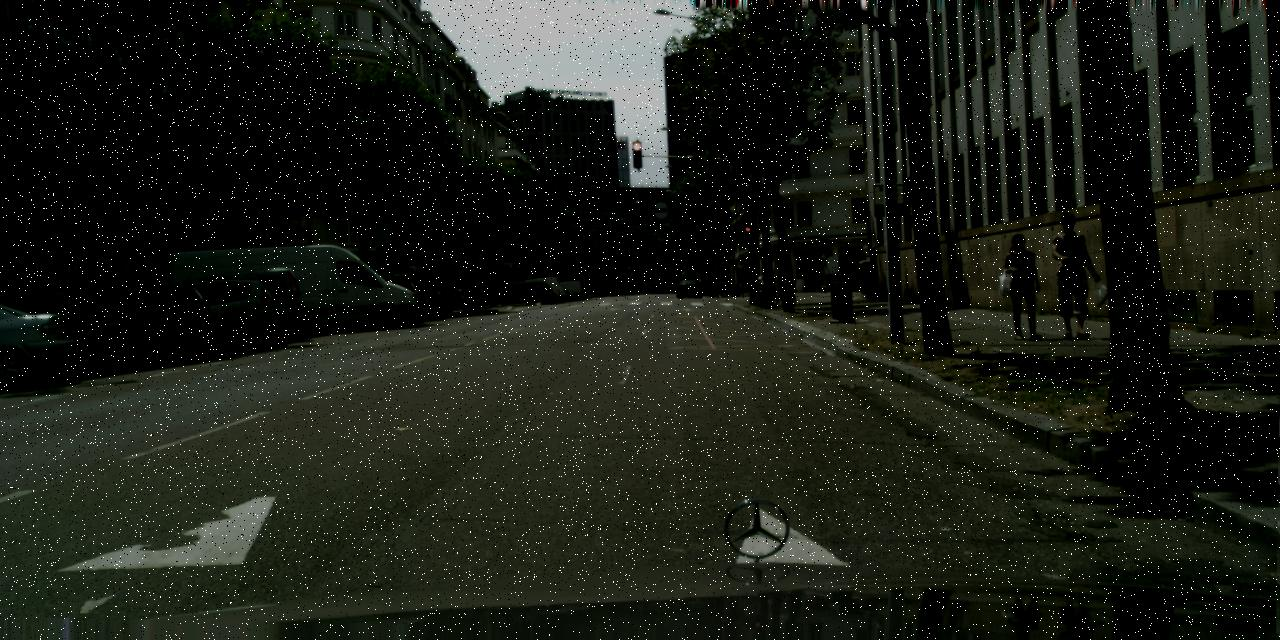ped: (1045, 212, 1097, 339), (1000, 234, 1044, 340)
